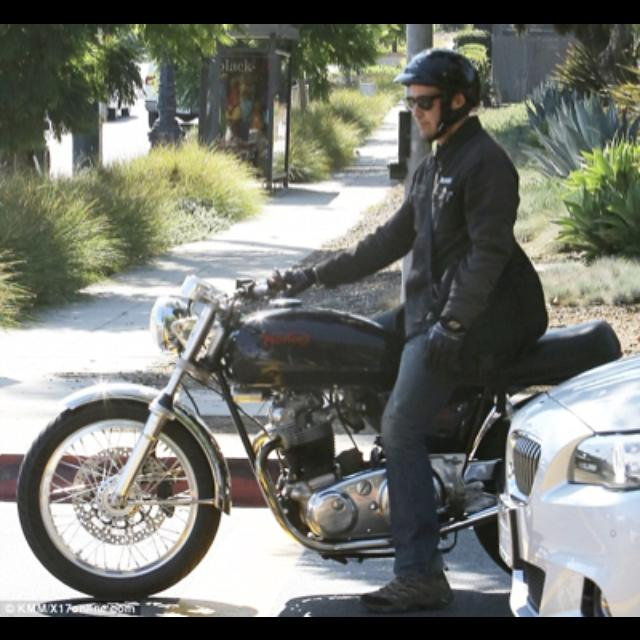With Helmet: (395, 41, 489, 145)
